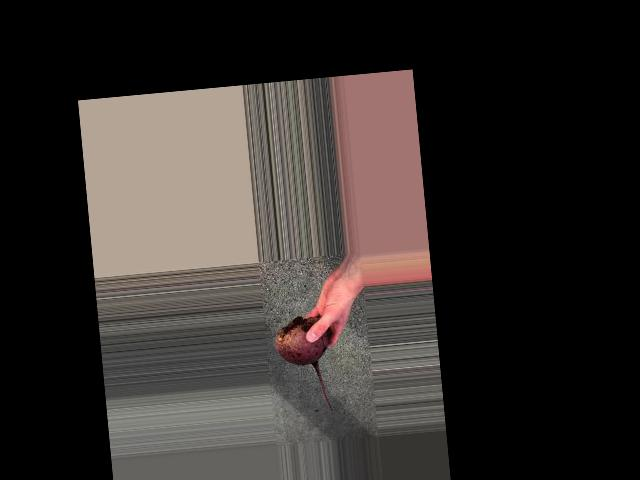beet: (272, 314, 334, 414)
